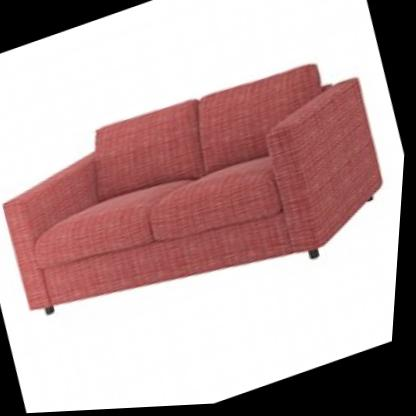Sofa: (0, 8, 415, 383)
